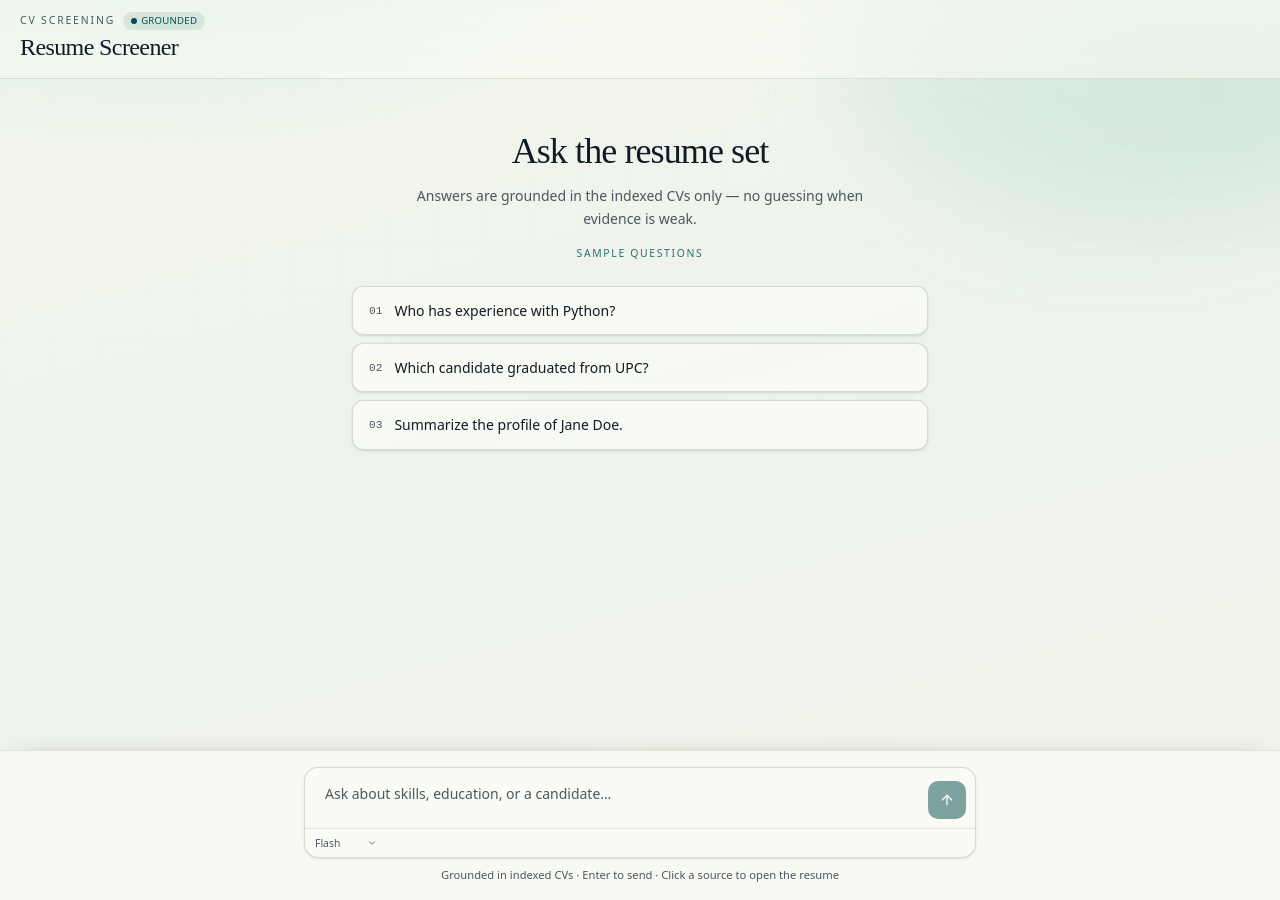
ChatPanel › shows sample questions and submits one
Expected: the text "Grounded" is shown, top-left (123, 12), bottom-right (205, 30)
Expected: the text "Ask the resume set" is shown, top-left (512, 131), bottom-right (768, 171)
Click the button "01 Who has experience with Python?" at (505, 310), box top-left (352, 286), bottom-right (928, 335)
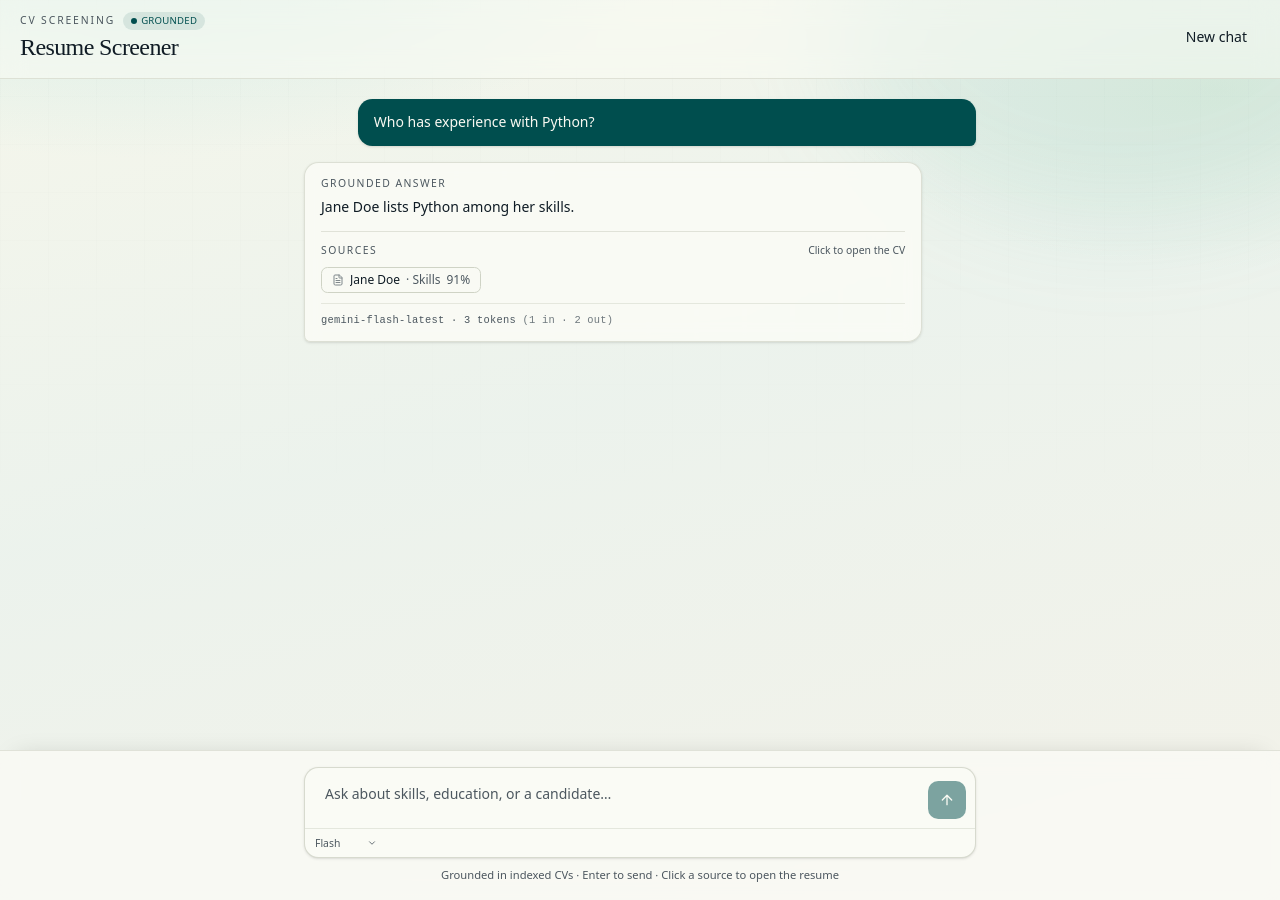
Now the text "Jane Doe lists Python among her skills." is shown, box top-left (321, 197), bottom-right (574, 216)
